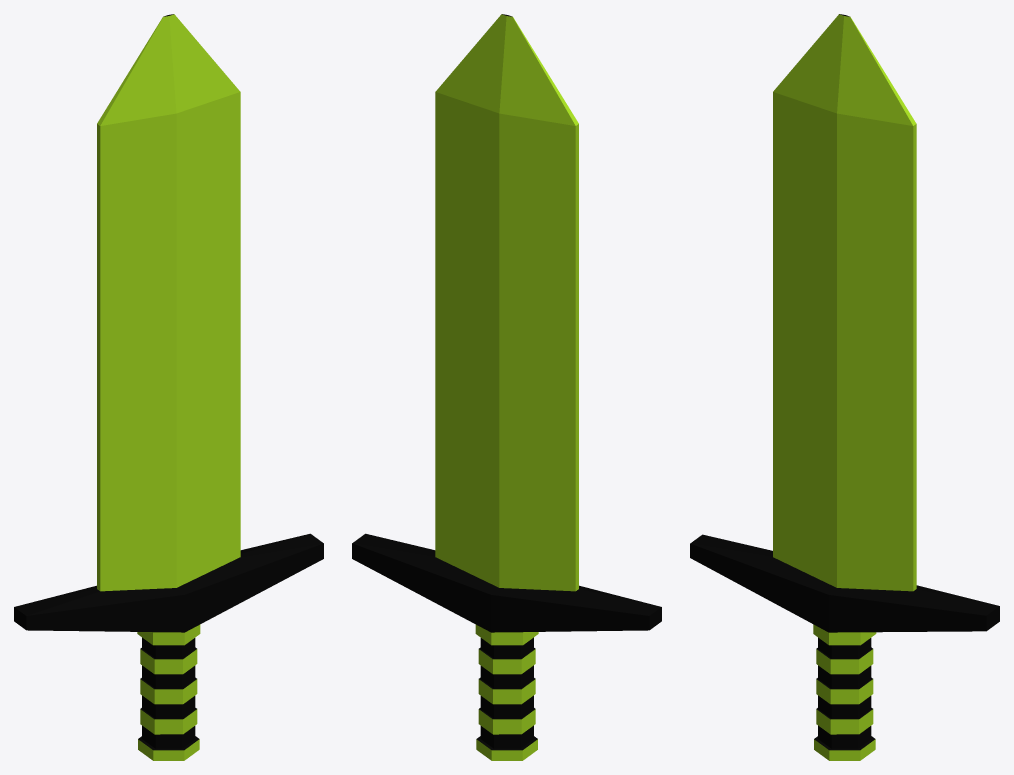
The model's file is sword.fbx.
The picture shows the model from 3 angles, left to right: view 1: azimuth 30°, elevation 25°; view 2: azimuth 150°, elevation 25°; view 3: azimuth 330°, elevation 25°; orthographic projection.
Visible parts, largest first — view 1: HeavySword; view 2: HeavySword; view 3: HeavySword.
Boxes of the visible parts, x1,y1,x2,y2 form: HeavySword: [14, 14, 323, 760]; HeavySword: [352, 14, 661, 760]; HeavySword: [690, 14, 999, 760].
Size of the model in its own units: 0.4248 by 0.0798 by 1.
